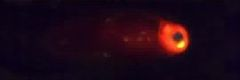keyhole: (170, 30, 186, 44)
